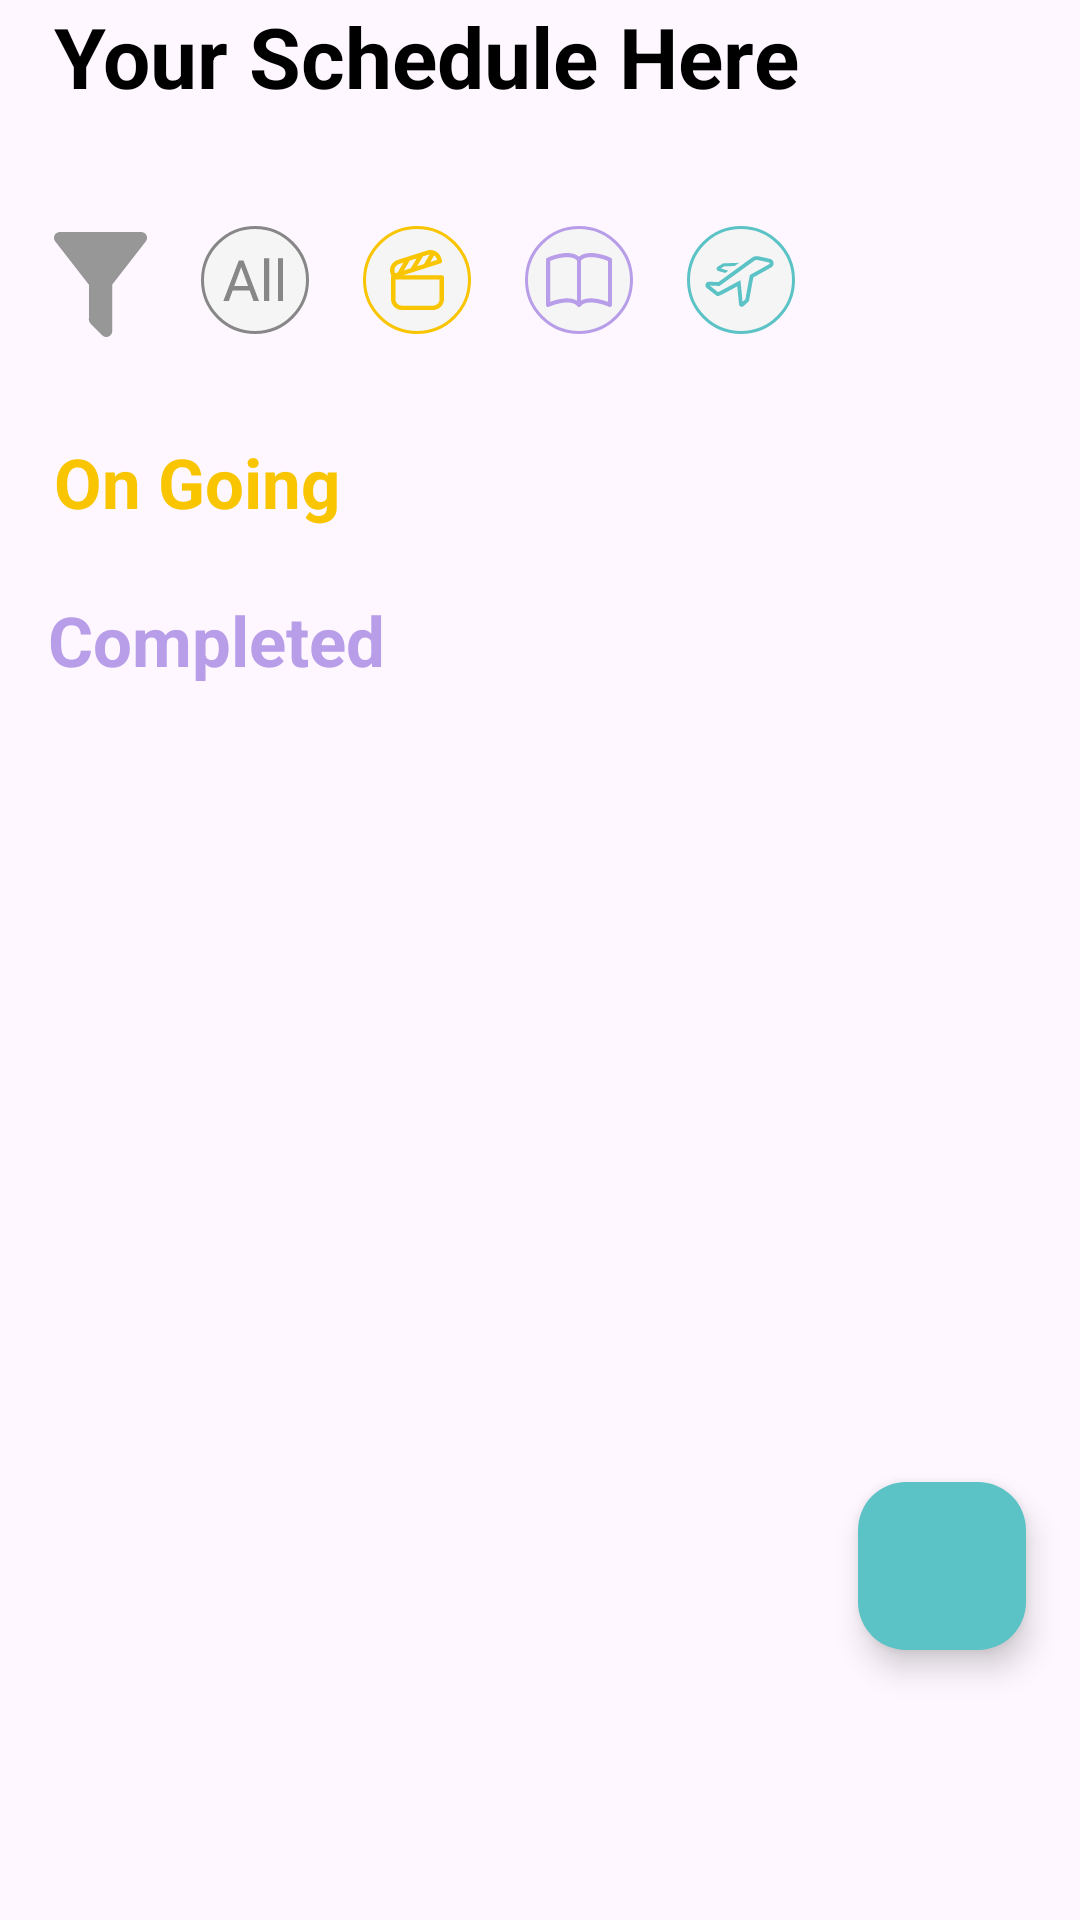

Point at icon controls on the screen. Image size 1080w x 1920h, points as (x=x, y=y).
book category: (x=579, y=280)
movie category: (x=417, y=280)
travel category: (x=741, y=280)
